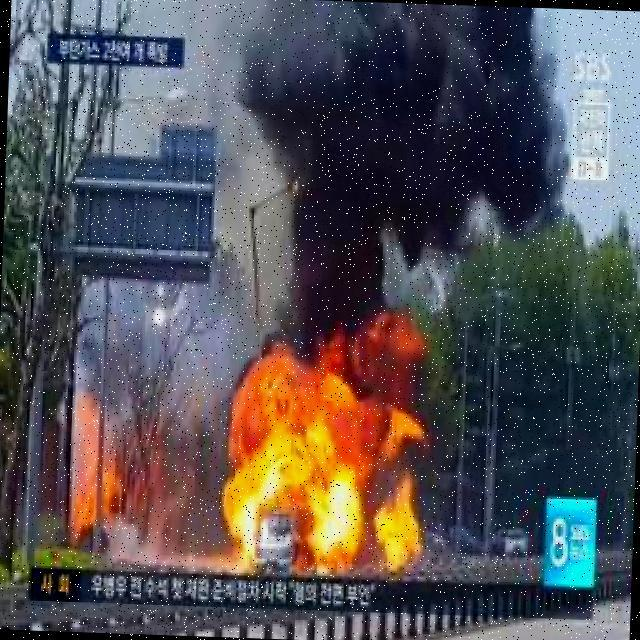Fire: (220, 347, 422, 581), (68, 466, 121, 541)
